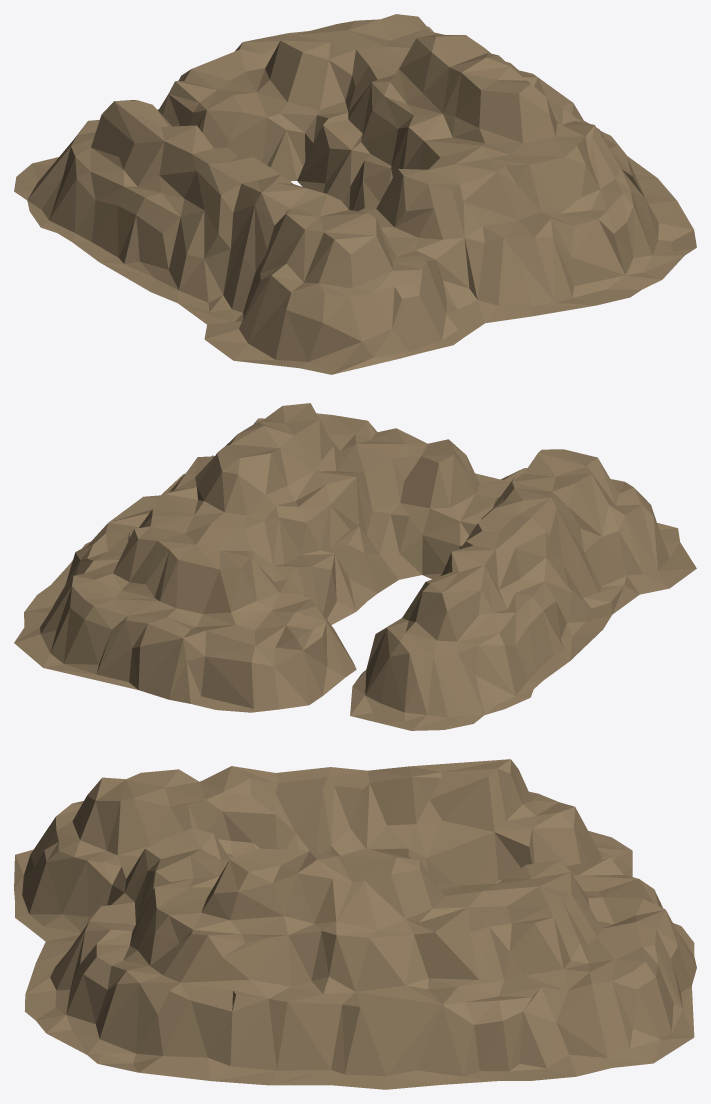
File: SmallTerrain02.fbx
The picture shows the model from 3 angles, top to bottom: view 1: azimuth 30°, elevation 25°; view 2: azimuth 150°, elevation 25°; view 3: azimuth 270°, elevation 25°; orthographic projection. The views are drawn at different scales.
Visible parts, largest first — view 1: SmallTerrain02; view 2: SmallTerrain02; view 3: SmallTerrain02.
Part boxes in pixels (box(x1,y1,x2,y2)): SmallTerrain02: box(14, 14, 696, 374); SmallTerrain02: box(14, 403, 696, 730); SmallTerrain02: box(14, 759, 696, 1089).
Size of the model in its own units: 41.34 by 10.93 by 44.24.
